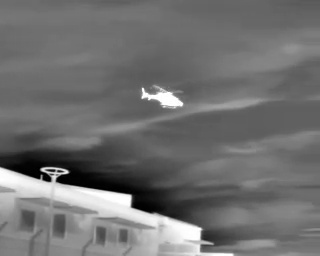HELICOPTER: (138, 76, 192, 115)
